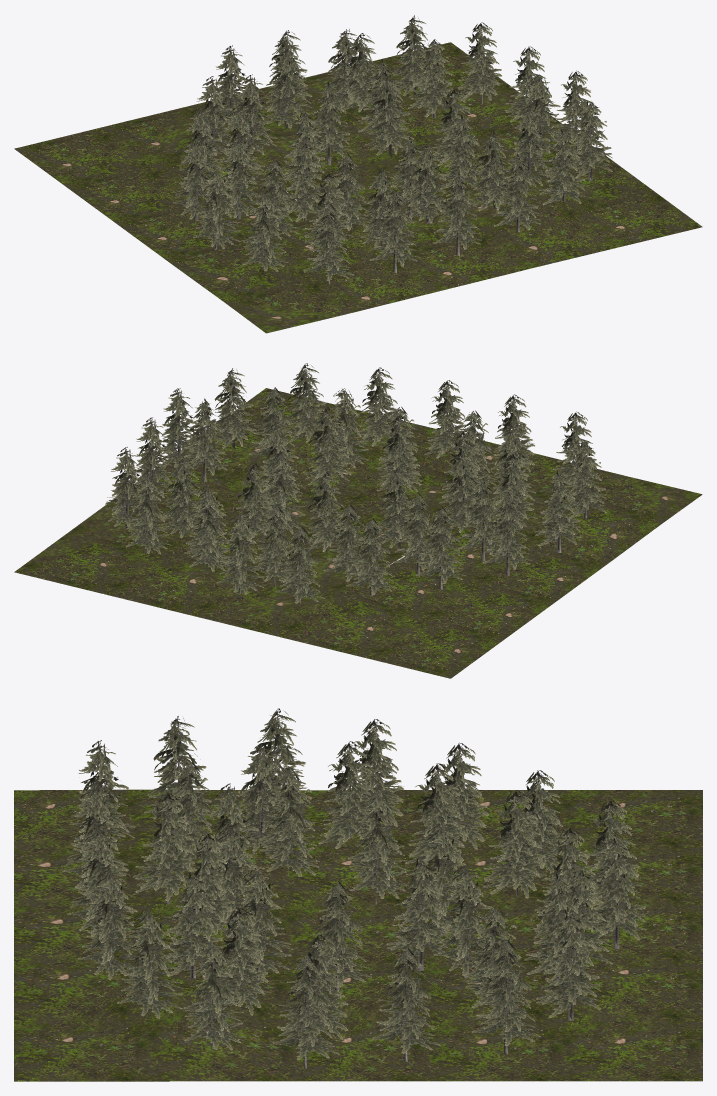
Rendered from ground.glb.
3 renders of one model, top to bottom at view 1: azimuth 30°, elevation 25°; view 2: azimuth 150°, elevation 25°; view 3: azimuth 270°, elevation 25°, orthographic. The views are drawn at different scales.
Parts seen in each view (by area): view 1: obj1, pine1; view 2: obj1, pine1; view 3: obj1, pine1.
Part boxes in pixels (x1,y1,x2,y2): obj1: [14, 42, 702, 333]; pine1: [173, 15, 612, 284]; obj1: [14, 388, 702, 678]; pine1: [105, 363, 606, 603]; obj1: [14, 789, 702, 1081]; pine1: [62, 708, 646, 1068].
Size of the model in its own units: 54.51 by 10.48 by 54.32.
Materials: 2 (2 with a texture image).
